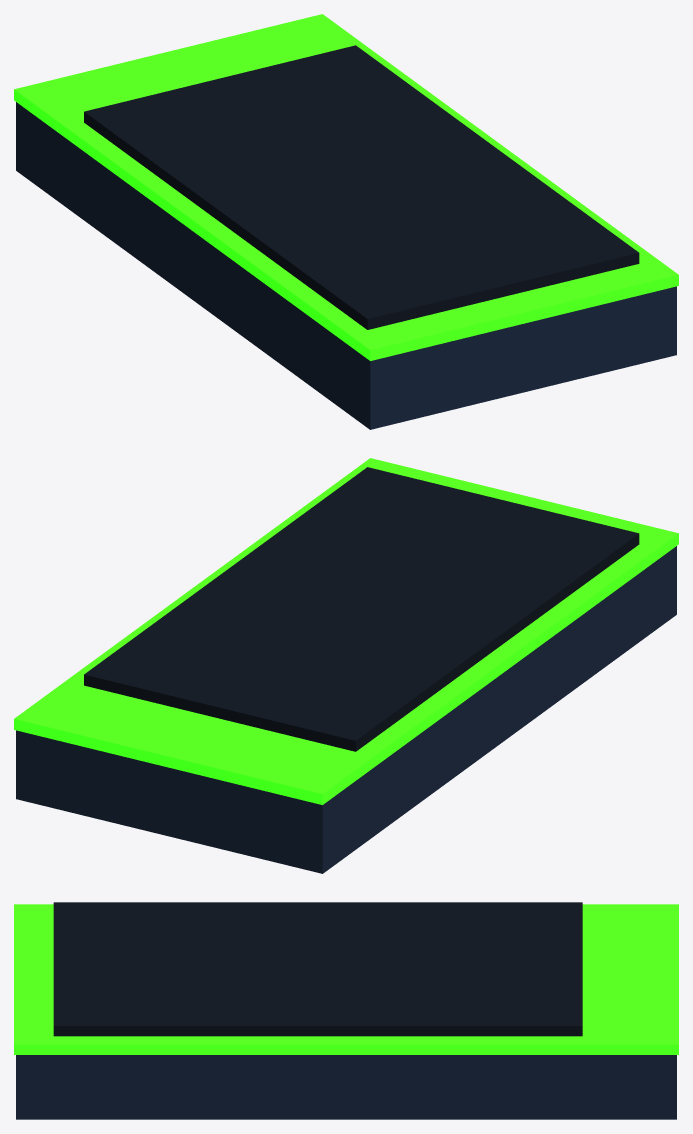
Rendered from tc_run_l1.glb.
3 views of the same model, one above another, from view 1: azimuth 30°, elevation 25°; view 2: azimuth 150°, elevation 25°; view 3: azimuth 270°, elevation 25° (orthographic). The views are drawn at different scales.
Visible parts, largest first — view 1: TC Runner_L1; view 2: TC Runner_L1; view 3: TC Runner_L1.
Boxes of the visible parts, x1,y1,x2,y2 form: TC Runner_L1: (14,14,678,429); TC Runner_L1: (14,458,678,873); TC Runner_L1: (14,902,678,1119).
Size of the model in its own units: 1.76 by 0.5 by 3.52.
